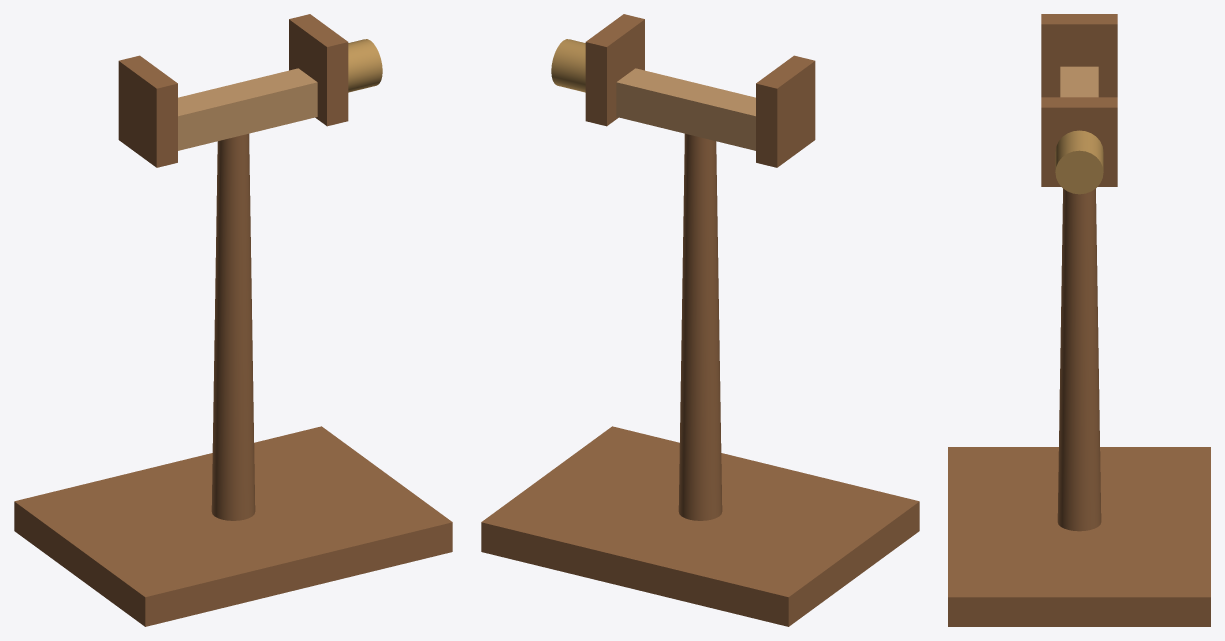
Rendered from hoop-stand.glb.
The picture shows the model from 3 angles, left to right: view 1: azimuth 30°, elevation 25°; view 2: azimuth 150°, elevation 25°; view 3: azimuth 270°, elevation 25°; orthographic projection.
Parts seen in each view (by area): view 1: stand-foot, stand-upright, stand-bracket, clamp--0.18, clamp-0.18, stand-knob; view 2: stand-foot, stand-upright, stand-bracket, clamp--0.18, clamp-0.18, stand-knob; view 3: stand-foot, stand-upright, clamp--0.18, clamp-0.18, stand-knob, stand-bracket.
Part boxes in pixels (left/top/right/bottom): stand-foot: left=14, top=426, right=452, bottom=626; stand-upright: left=211, top=133, right=255, bottom=520; stand-bracket: left=178, top=68, right=317, bottom=150; clamp--0.18: left=118, top=55, right=177, bottom=167; clamp-0.18: left=289, top=14, right=348, bottom=126; stand-knob: left=348, top=39, right=382, bottom=92; stand-foot: left=481, top=426, right=919, bottom=626; stand-upright: left=678, top=133, right=722, bottom=520; stand-bracket: left=616, top=68, right=755, bottom=150; clamp--0.18: left=756, top=55, right=815, bottom=167; clamp-0.18: left=585, top=14, right=644, bottom=126; stand-knob: left=551, top=39, right=585, bottom=92; stand-foot: left=948, top=447, right=1210, bottom=626; stand-upright: left=1057, top=188, right=1101, bottom=531; clamp--0.18: left=1041, top=14, right=1117, bottom=97; clamp-0.18: left=1041, top=97, right=1117, bottom=186; stand-knob: left=1055, top=130, right=1103, bottom=194; stand-bracket: left=1060, top=66, right=1098, bottom=97.
Size of the model in its own units: 0.65 by 0.99 by 0.48.
